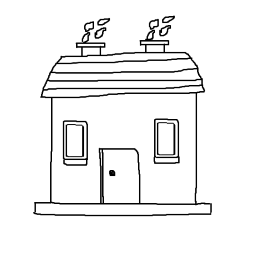door: (95, 141, 145, 208)
open_window: (62, 119, 88, 165), (155, 118, 179, 163)
roof: (40, 50, 205, 101)
smoking_chimney: (138, 10, 180, 58), (73, 12, 113, 58)
wall: (46, 87, 203, 209)
